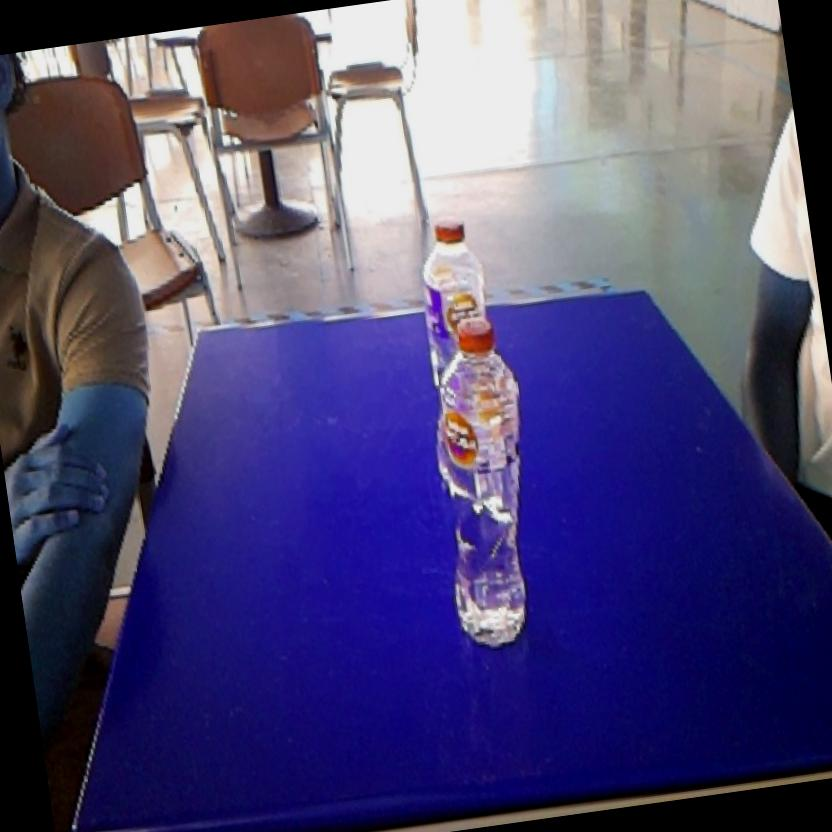good: (410, 302, 556, 670), (406, 210, 494, 324)
